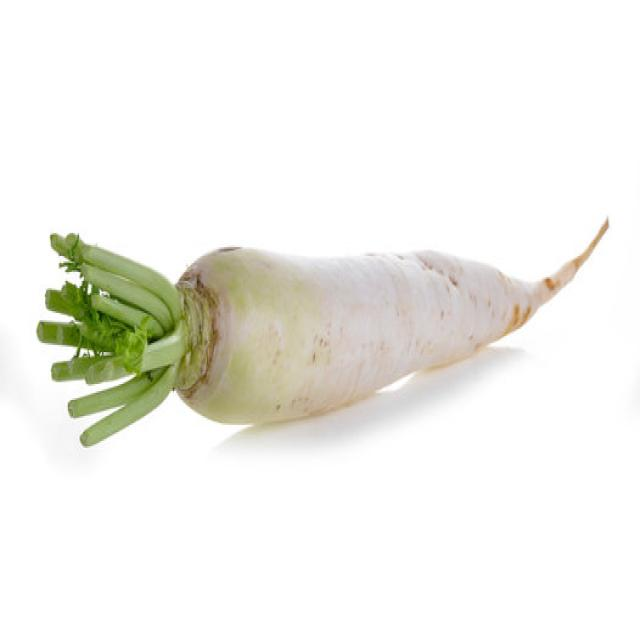Coriander Leaves: (35, 229, 185, 446)
Radish: (35, 212, 610, 446)
